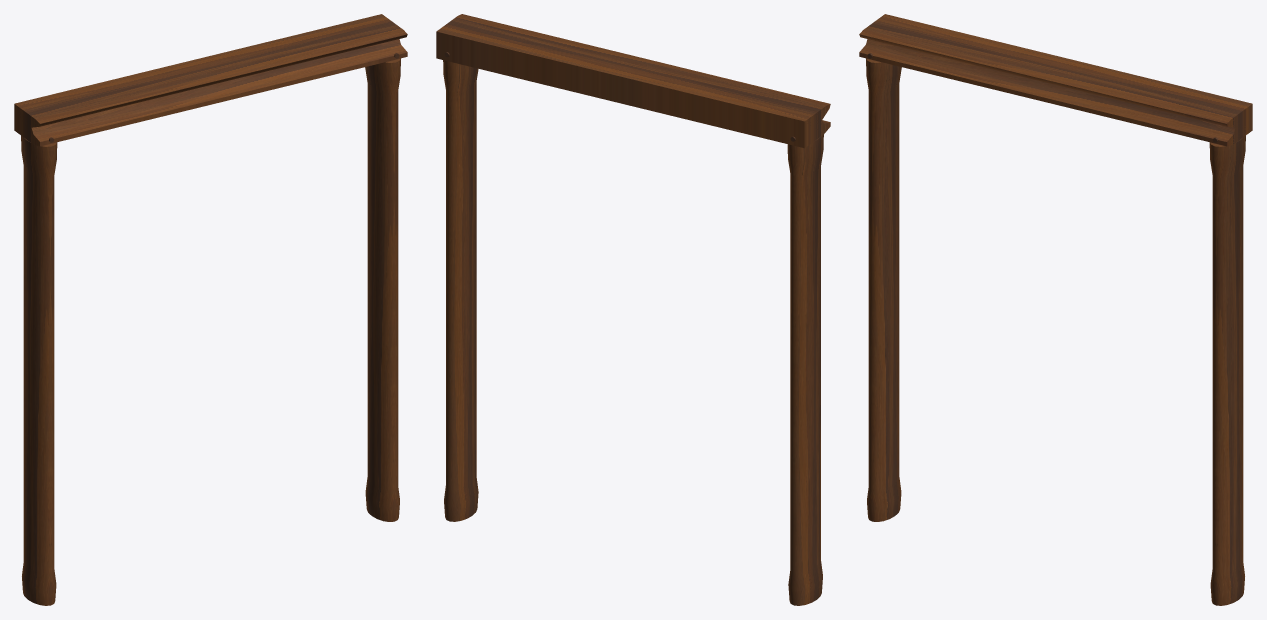
Rendered from CM_R06_TreatmentFrame.fbx.
3 views of the same model, side by side, from view 1: azimuth 30°, elevation 25°; view 2: azimuth 150°, elevation 25°; view 3: azimuth 330°, elevation 25° (orthographic).
Visible parts, largest first — view 1: CM_R06_TreatmentFrame; view 2: CM_R06_TreatmentFrame; view 3: CM_R06_TreatmentFrame.
Boxes of the visible parts, x1=… form: CM_R06_TreatmentFrame: x1=14, y1=14, x2=407, y2=605; CM_R06_TreatmentFrame: x1=436, y1=14, x2=830, y2=605; CM_R06_TreatmentFrame: x1=859, y1=14, x2=1252, y2=605.
Size of the model in its own units: 2.31 by 2.91 by 0.296.
